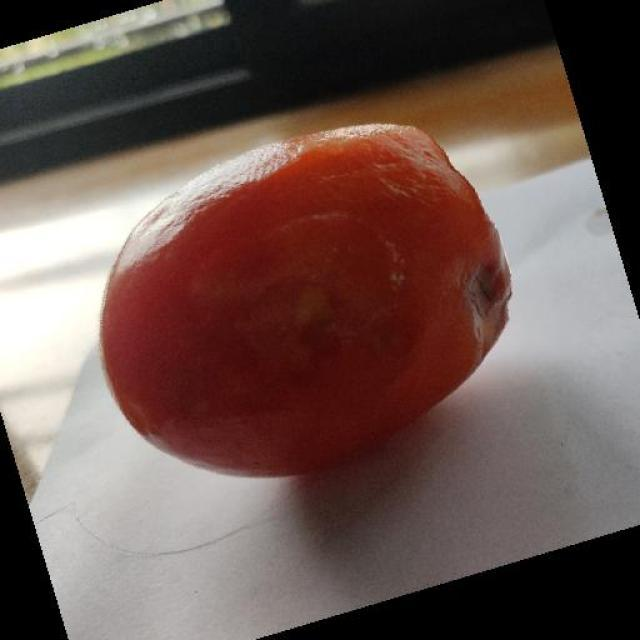Rotten Tomato: (62, 94, 544, 499)
